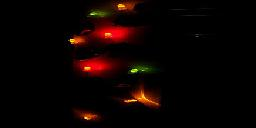LED: (101, 28, 118, 43), (125, 65, 142, 76), (79, 62, 93, 75)
